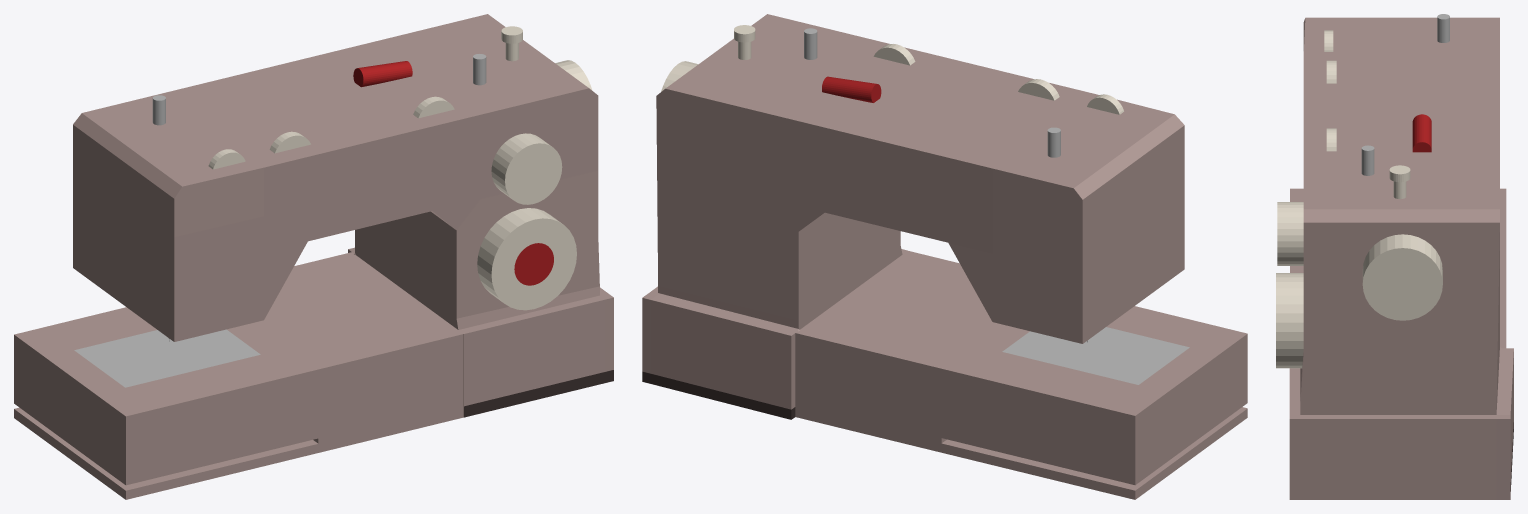
The model's file is MAQUINA DE COSTURA SINGER (JUNTO).fbx.
The picture shows the model from 3 angles, left to right: view 1: azimuth 30°, elevation 25°; view 2: azimuth 150°, elevation 25°; view 3: azimuth 270°, elevation 25°; orthographic projection. The views are drawn at different scales.
Visible parts, largest first — view 1: Cube; view 2: Cube; view 3: Cube.
Boxes of the visible parts, x1,y1,x2,y2 form: Cube: (14,14,613,499); Cube: (642,14,1247,499); Cube: (1276,14,1513,499).
Size of the model in its own units: 7.49 by 4.5 by 3.14.
